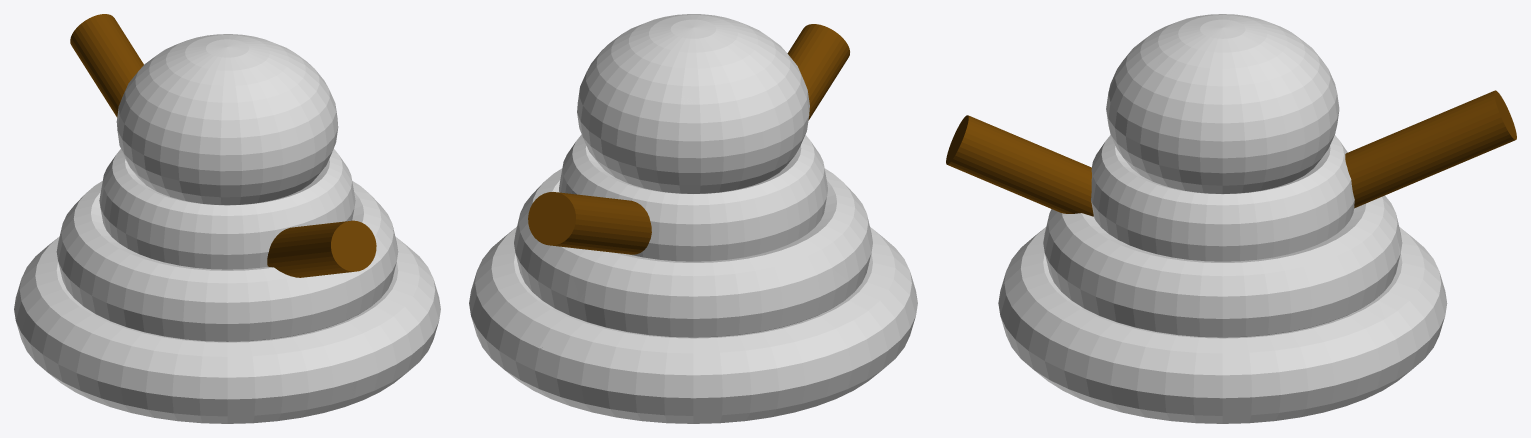
The model's file is SnowMan.fbx.
3 views of the same model, side by side, from view 1: azimuth 30°, elevation 25°; view 2: azimuth 150°, elevation 25°; view 3: azimuth 270°, elevation 25° (orthographic). The views are drawn at different scales.
Visible parts, largest first — view 1: Torus, Sphere, Torus.001, Torus.002, Cylinder.001, Cylinder, Torus_cell.041, Torus_cell.072, Sphere_cell.066, Torus_cell.096, Torus.001_cell.049, Torus.001_cell.065 (+18 smaller); view 2: Sphere, Torus, Torus.001, Torus.002, Cylinder, Torus_cell.039, Torus.001_cell.095, Cylinder.001, Torus_cell.098, Torus_cell.028, Torus.001_cell.023, Torus_cell.030 (+41 smaller); view 3: Sphere, Torus, Torus.001, Torus.002, Cylinder, Cylinder.001, Torus_cell.036, Torus_cell.051, Torus_cell.010, Torus_cell.065, Sphere_cell.013, Torus.001_cell.001 (+28 smaller).
Boxes of the visible parts, x1,y1,x2,y2 form: Torus: [14, 236, 440, 421]; Sphere: [117, 34, 338, 205]; Torus.001: [59, 183, 397, 341]; Torus.002: [99, 148, 355, 269]; Cylinder.001: [267, 220, 376, 277]; Cylinder: [70, 14, 143, 114]; Torus_cell.041: [46, 323, 122, 386]; Torus_cell.072: [258, 364, 338, 421]; Sphere_cell.066: [222, 79, 282, 136]; Torus_cell.096: [144, 354, 213, 420]; Torus.001_cell.049: [191, 302, 277, 341]; Torus.001_cell.065: [92, 261, 147, 315]; Sphere: [577, 14, 809, 193]; Torus: [473, 227, 917, 423]; Torus.001: [514, 168, 872, 337]; Torus.002: [559, 134, 827, 261]; Cylinder: [528, 192, 651, 254]; Torus_cell.039: [637, 362, 731, 414]; Torus.001_cell.095: [705, 277, 792, 336]; Cylinder.001: [788, 24, 849, 119]; Torus_cell.098: [627, 337, 737, 369]; Torus_cell.028: [811, 326, 877, 394]; Torus.001_cell.023: [695, 258, 762, 307]; Torus_cell.030: [549, 323, 630, 359]; Sphere: [1106, 14, 1339, 193]; Torus: [998, 227, 1444, 423]; Torus.001: [1048, 196, 1401, 337]; Torus.002: [1091, 135, 1354, 261]; Cylinder: [1345, 90, 1516, 205]; Cylinder.001: [946, 115, 1093, 216]; Torus_cell.036: [1159, 356, 1261, 422]; Torus_cell.051: [1378, 300, 1432, 355]; Torus_cell.010: [1228, 373, 1307, 419]; Torus_cell.065: [1279, 328, 1319, 387]; Sphere_cell.013: [1189, 126, 1266, 193]; Torus.001_cell.001: [1266, 248, 1318, 293].
Size of the model in its own units: 250 by 194 by 318.
